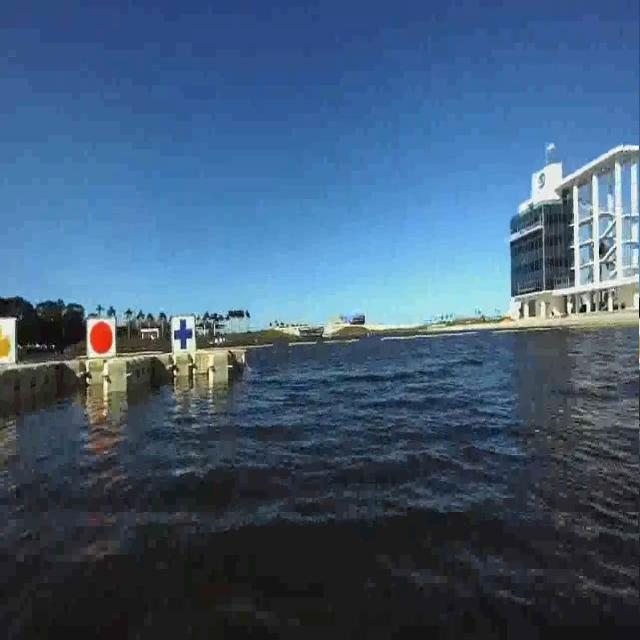blue-cross: (166, 317, 197, 359)
red-dot: (88, 311, 119, 362)
yellow-duck: (1, 313, 15, 366)
